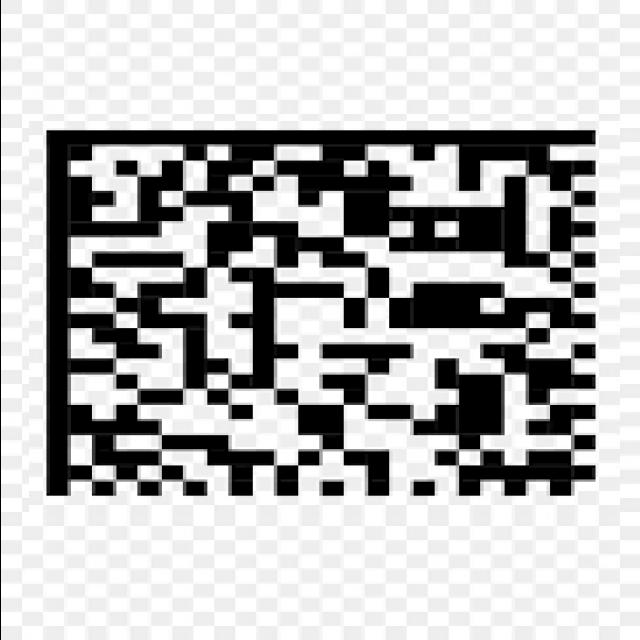DataMatrix: (28, 121, 619, 512)
